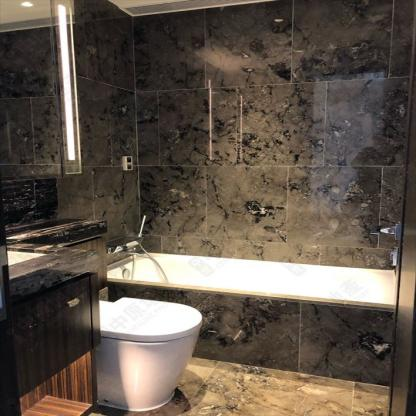Bathtub: (106, 250, 394, 387)
Toilet: (98, 297, 203, 410)
Toilet Sink: (5, 249, 48, 268)
